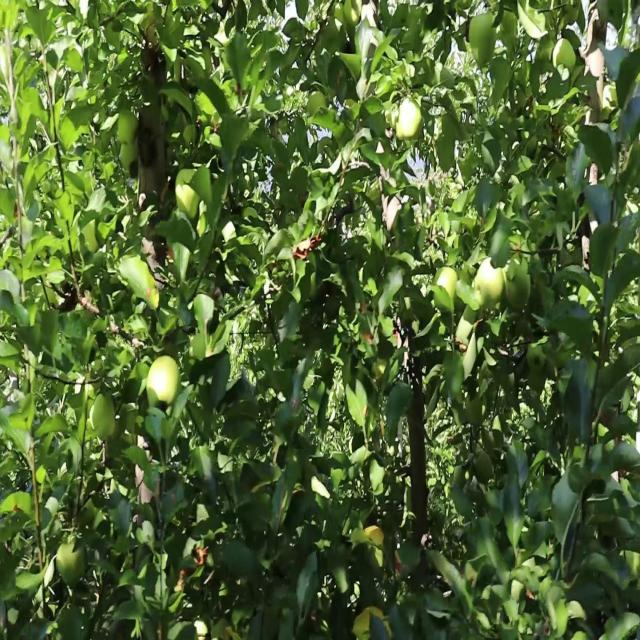apple: (148, 355, 180, 407), (56, 540, 87, 587), (504, 263, 532, 313), (396, 99, 424, 144), (480, 255, 504, 306), (356, 611, 392, 639), (176, 177, 199, 220), (436, 270, 458, 304), (556, 42, 577, 73), (384, 199, 401, 235), (120, 113, 139, 144), (344, 1, 363, 27), (364, 526, 385, 548), (140, 142, 156, 167), (192, 547, 209, 569), (364, 7, 379, 27)
